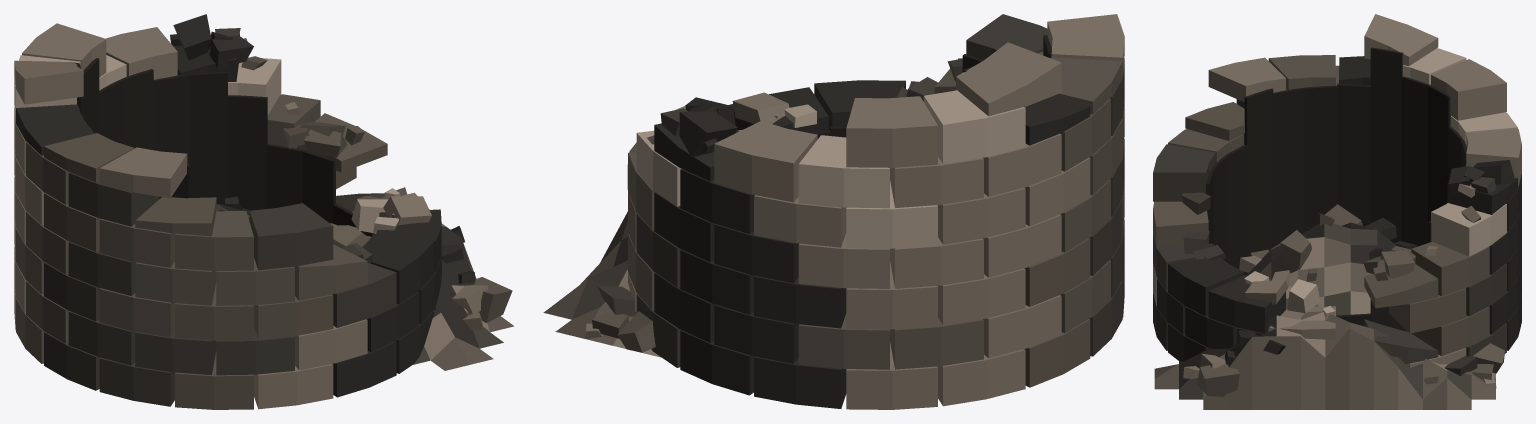
The model's file is AraTow01a.glb.
The picture shows the model from 3 angles, left to right: view 1: azimuth 30°, elevation 25°; view 2: azimuth 150°, elevation 25°; view 3: azimuth 270°, elevation 25°; orthographic projection. The views are drawn at different scales.
Parts seen in each view (by area): view 1: AraTow01a_rub2; view 2: AraTow01a_rub2; view 3: AraTow01a_rub2.
Boxes of the visible parts, <box> form: AraTow01a_rub2: <box>14,14,513,409</box>; AraTow01a_rub2: <box>543,14,1124,409</box>; AraTow01a_rub2: <box>1153,14,1521,409</box>.
Bounding box in the file's own units: 4.04 × 2.64 × 3.8.
